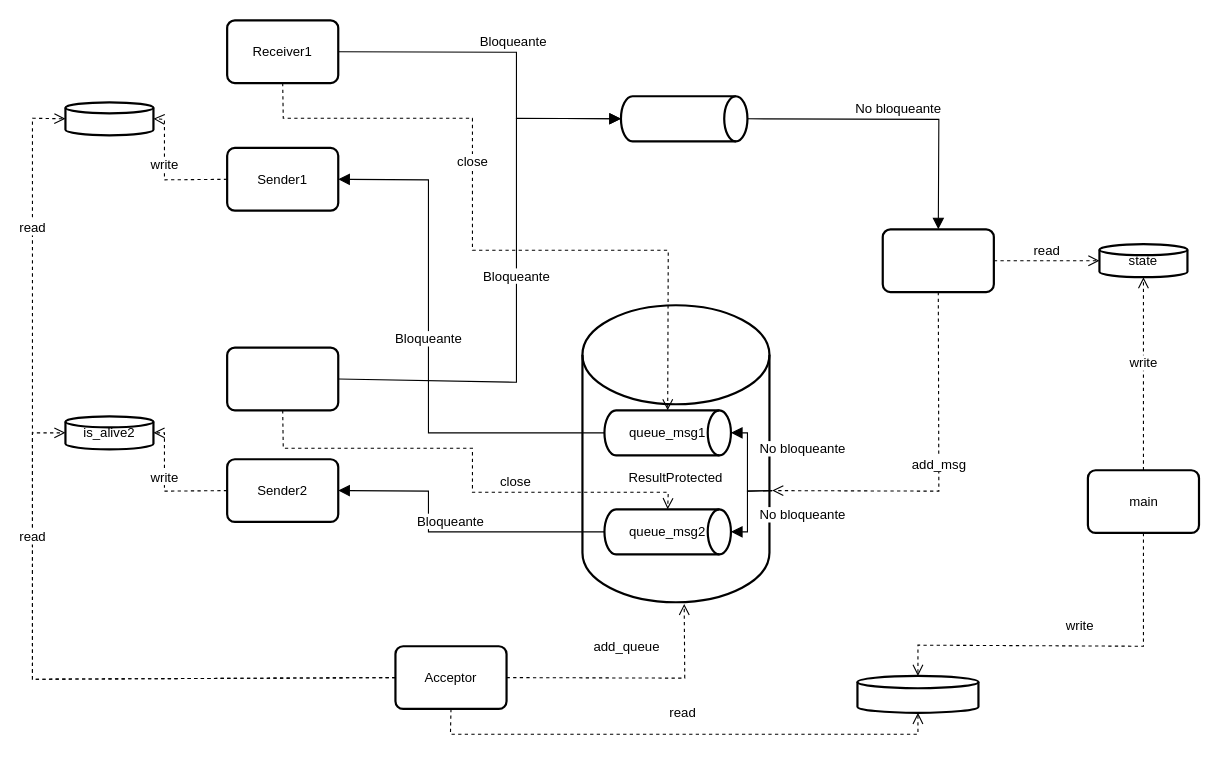
Image size: 1219x765. Some labels were removed from this diagram. Each missing label, with the centre of its shape:
continue_accepting: point (917, 693)
GameLoop: point (937, 260)
is_alive1: point (109, 118)
queue_gameloop: point (683, 118)
Receiver2: point (282, 378)
